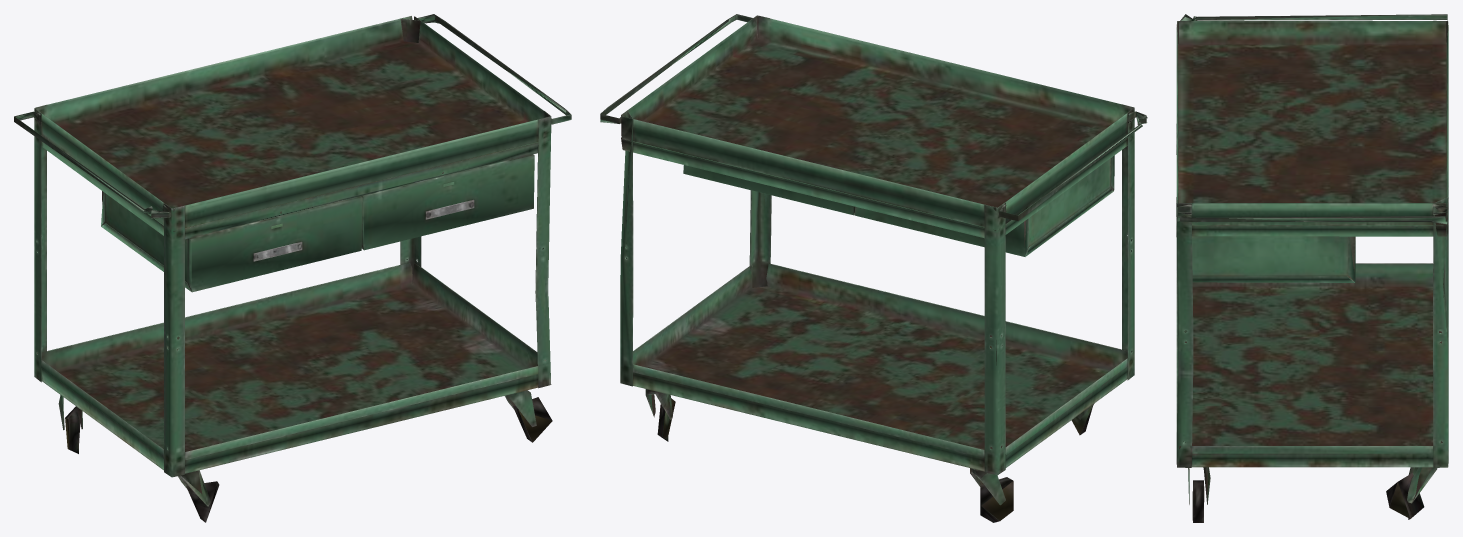
File: tool_cart.glb
The picture shows the model from 3 angles, left to right: view 1: azimuth 30°, elevation 25°; view 2: azimuth 150°, elevation 25°; view 3: azimuth 270°, elevation 25°; orthographic projection.
Parts seen in each view (by area): view 1: tool_cart; view 2: tool_cart; view 3: tool_cart.
Boxes of the visible parts, x1=… form: tool_cart: x1=14, y1=14, x2=571, y2=522; tool_cart: x1=600, y1=14, x2=1147, y2=522; tool_cart: x1=1176, y1=14, x2=1448, y2=522.
Size of the model in its own units: 1.26 by 0.9619 by 0.7151.
Materials: 1 (1 with a texture image).
